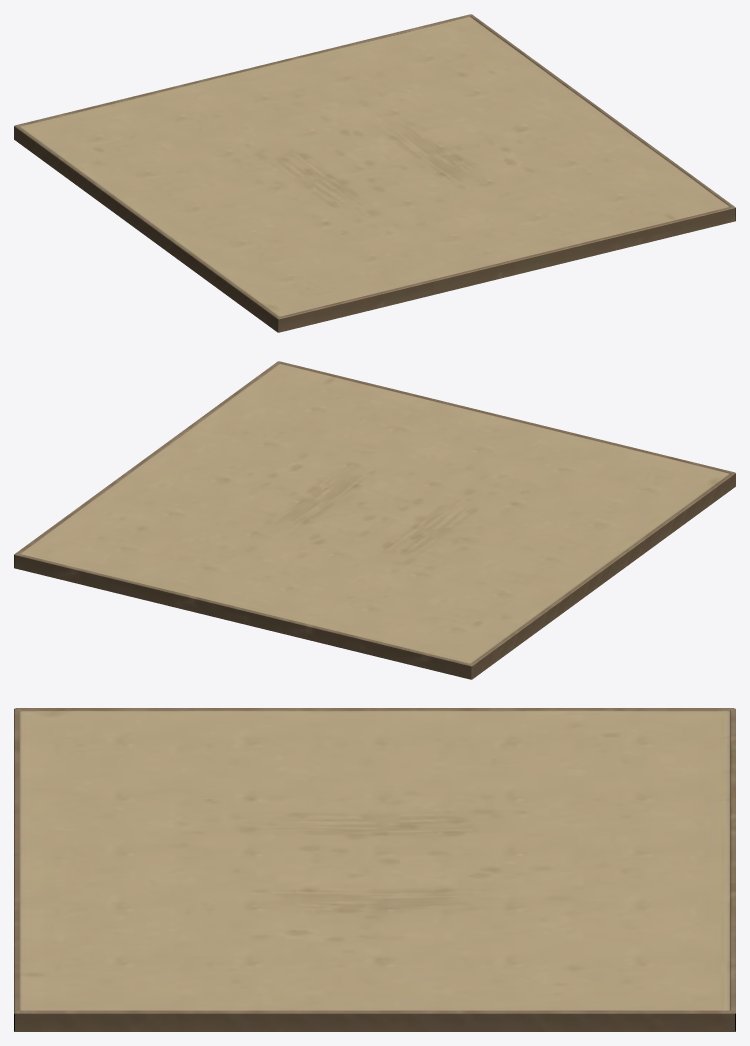
The model's file is sandbox_pad-low.glb.
3 renders of one model, top to bottom at view 1: azimuth 30°, elevation 25°; view 2: azimuth 150°, elevation 25°; view 3: azimuth 270°, elevation 25°, orthographic. The views are drawn at different scales.
Visible parts, largest first — view 1: sb_sand, sb_rim; view 2: sb_sand, sb_rim; view 3: sb_sand, sb_rim.
Boxes of the visible parts, x1,y1,x2,y2 form: sb_sand: (20,16,729,316); sb_rim: (14,14,735,332); sb_sand: (20,363,729,663); sb_rim: (14,361,735,679); sb_sand: (19,710,730,1010); sb_rim: (14,708,735,1031).
Bounding box in the file's own units: 5 × 0.1453 × 5.
2 materials, 2 textured.
